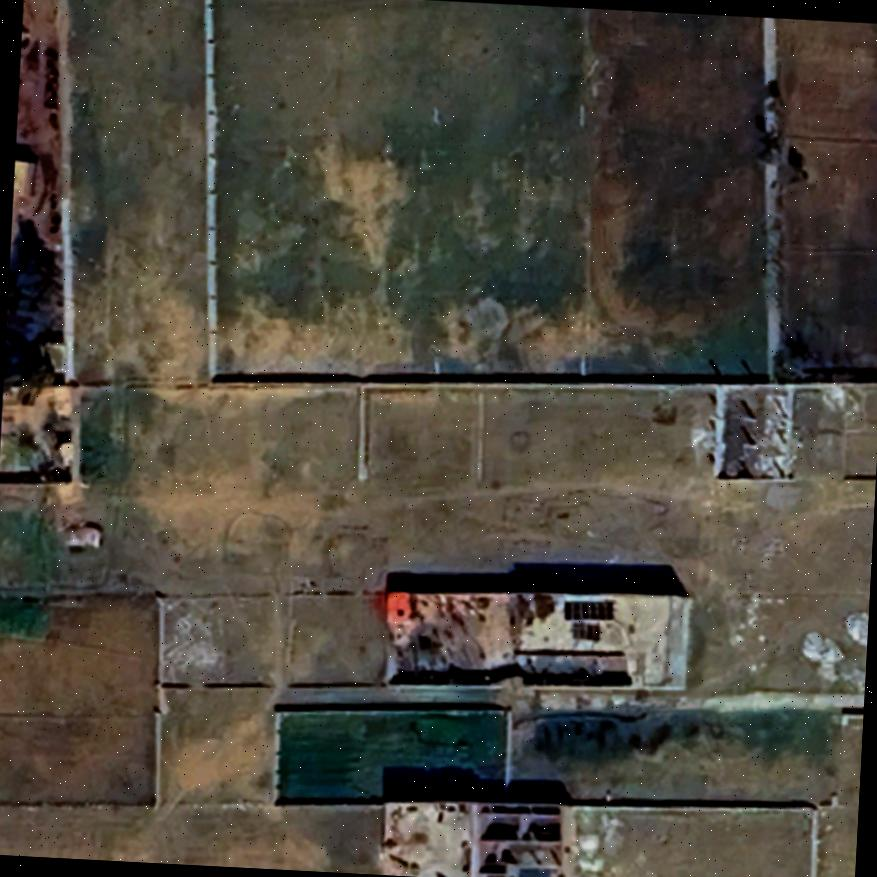Solarpanel: (558, 594, 618, 644)
